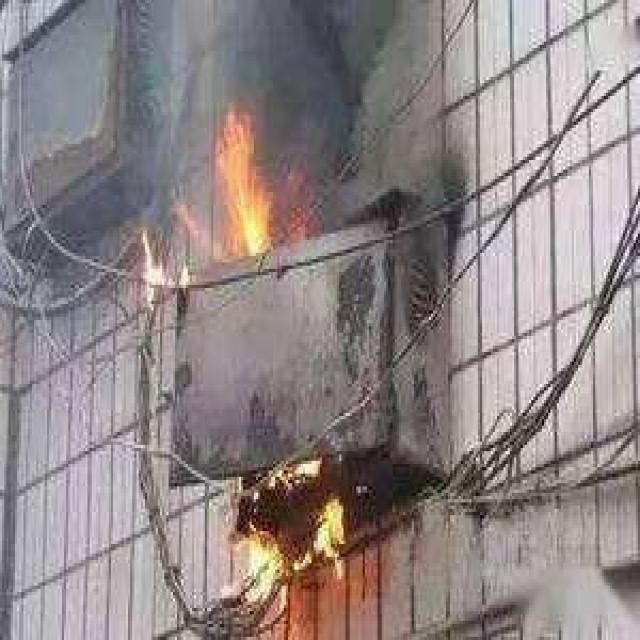Fire: (132, 102, 326, 301), (226, 468, 356, 614)
Smoke: (255, 1, 412, 169)
